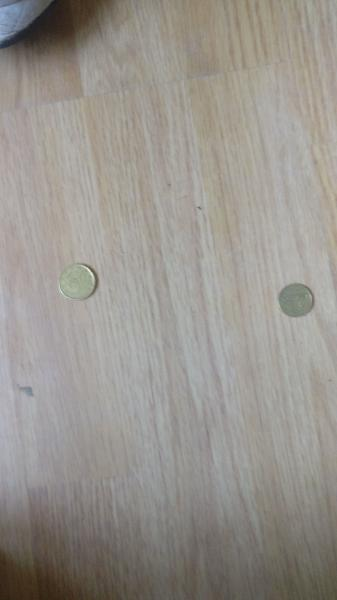Ten Cent: (274, 285, 321, 320)
Twenty Cent: (59, 262, 97, 301)
